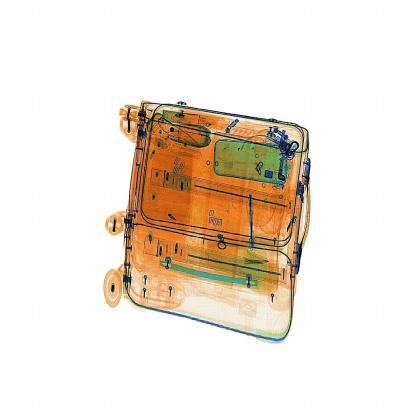knife: (246, 188, 258, 251)
